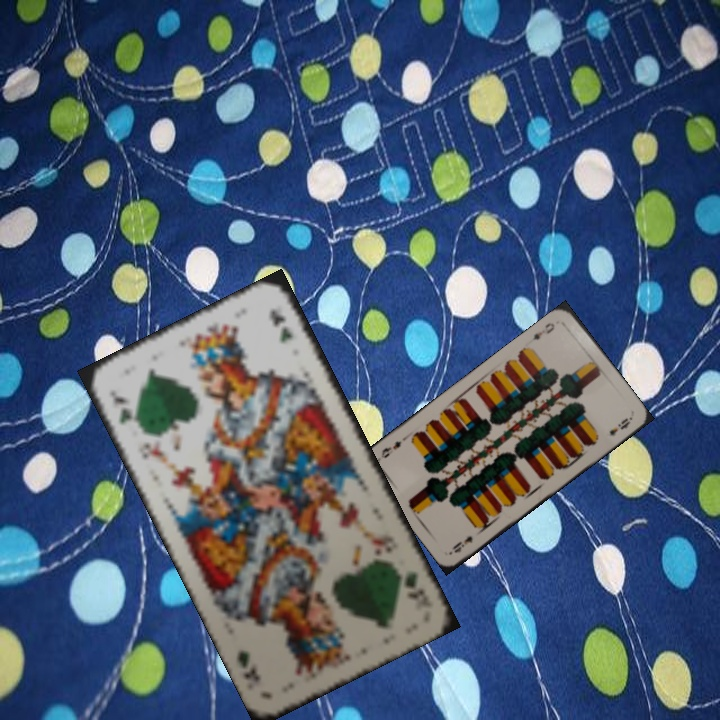E9: (529, 318, 557, 343), (448, 532, 475, 555)
GK: (106, 384, 144, 433), (392, 563, 422, 593)
